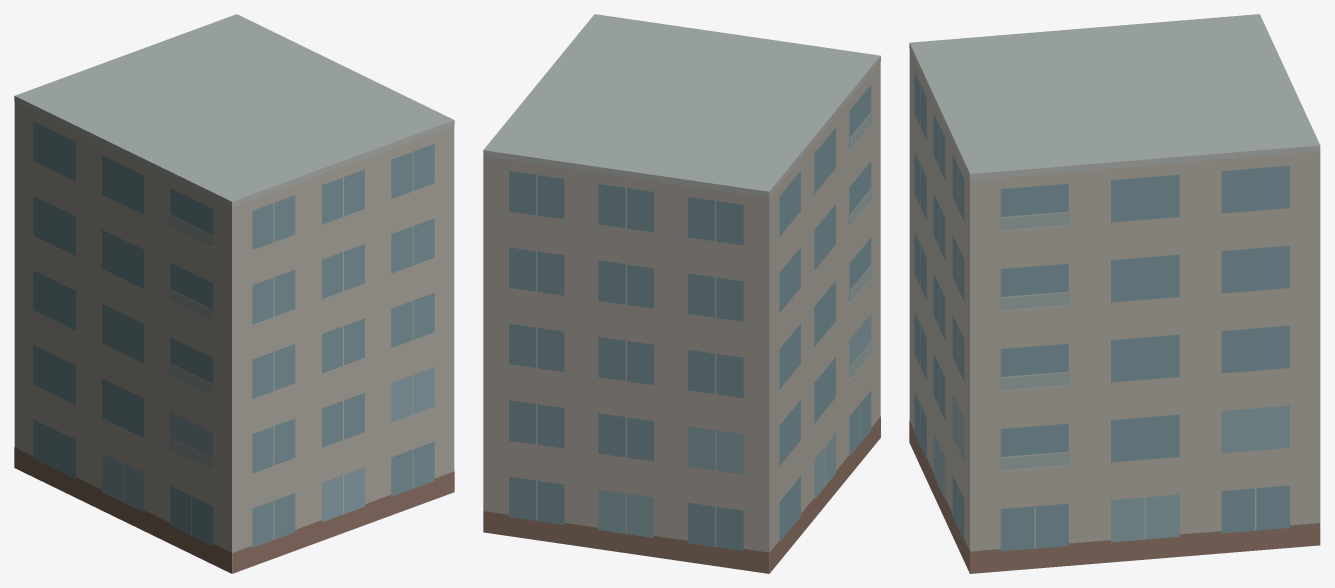
Rendered from survey-upis-32979045.glb.
3 renders of one model, left to right at view 1: azimuth 30°, elevation 25°; view 2: azimuth 150°, elevation 25°; view 3: azimuth 270°, elevation 25°, orthographic. The views are drawn at different scales.
Visible parts, largest first — view 1: survey-upis-32979045.tmp; view 2: survey-upis-32979045.tmp; view 3: survey-upis-32979045.tmp.
Boxes of the visible parts, box(x1,y1,x2,y2) form: survey-upis-32979045.tmp: box(14, 14, 454, 573); survey-upis-32979045.tmp: box(483, 14, 880, 573); survey-upis-32979045.tmp: box(909, 14, 1320, 573).
Bounding box in the file's own units: 13.65 × 15.9 × 14.82.
